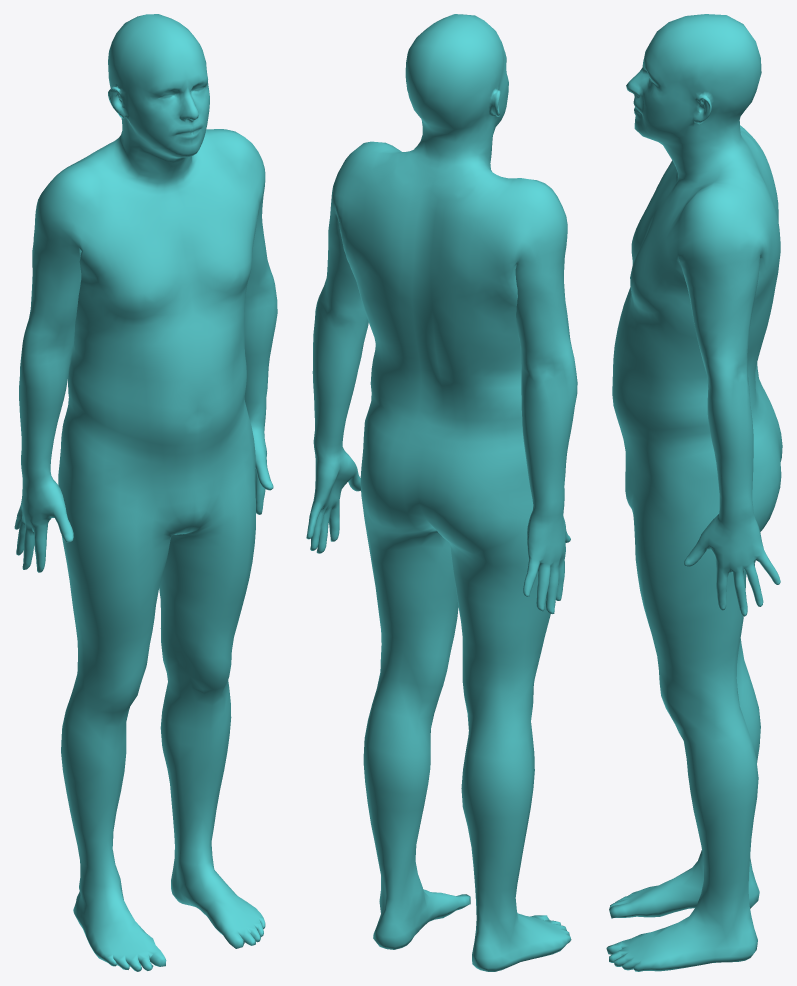
File: standing_pose_male.glb
The picture shows the model from 3 angles, left to right: view 1: azimuth 30°, elevation 25°; view 2: azimuth 150°, elevation 25°; view 3: azimuth 270°, elevation 25°; orthographic projection. The views are drawn at different scales.
Visible parts, largest first — view 1: standing_pose Reference; view 2: standing_pose Reference; view 3: standing_pose Reference.
Boxes of the visible parts, left/top/right/bottom form: standing_pose Reference: left=14, top=14, right=277, bottom=971; standing_pose Reference: left=306, top=14, right=577, bottom=971; standing_pose Reference: left=606, top=14, right=782, bottom=971.
Size of the model in its own units: 0.5268 by 1.79 by 0.3107.
